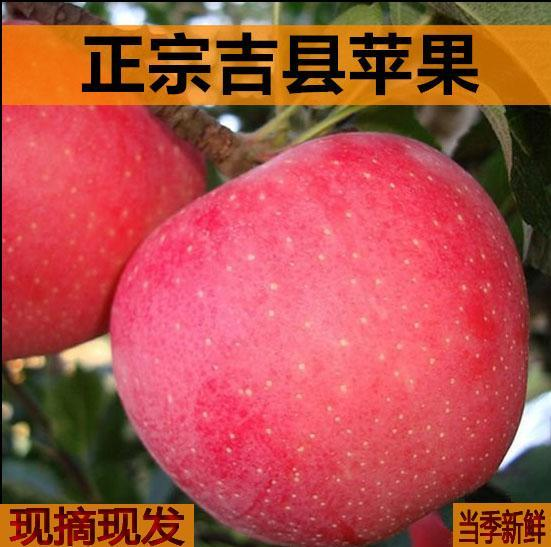apple: (113, 132, 528, 542), (0, 107, 217, 357)
